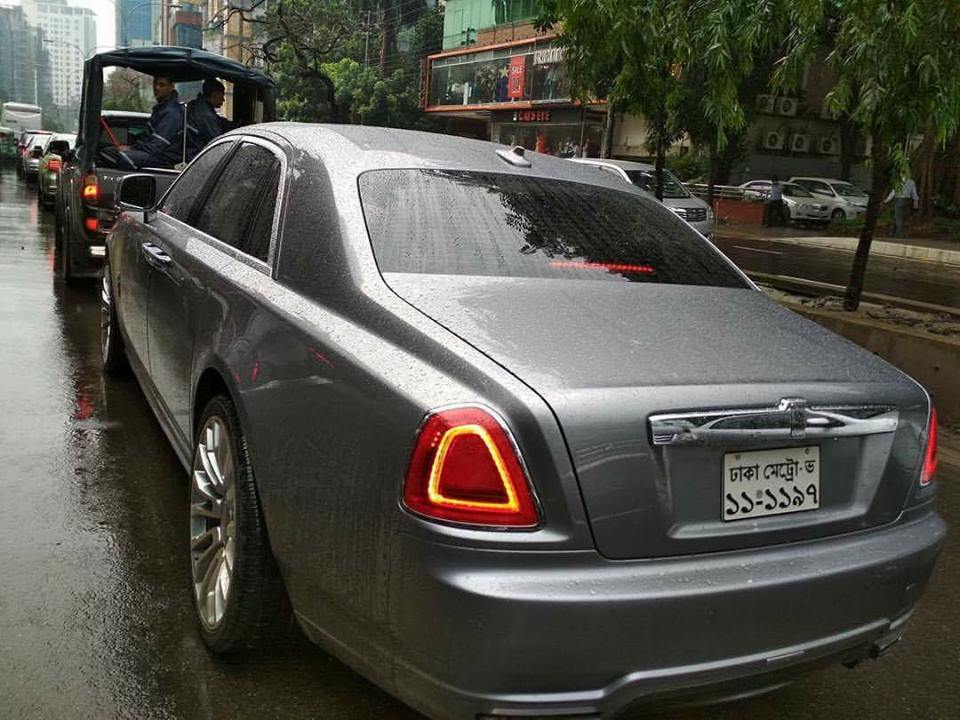registration_plate: (719, 444, 822, 522)
